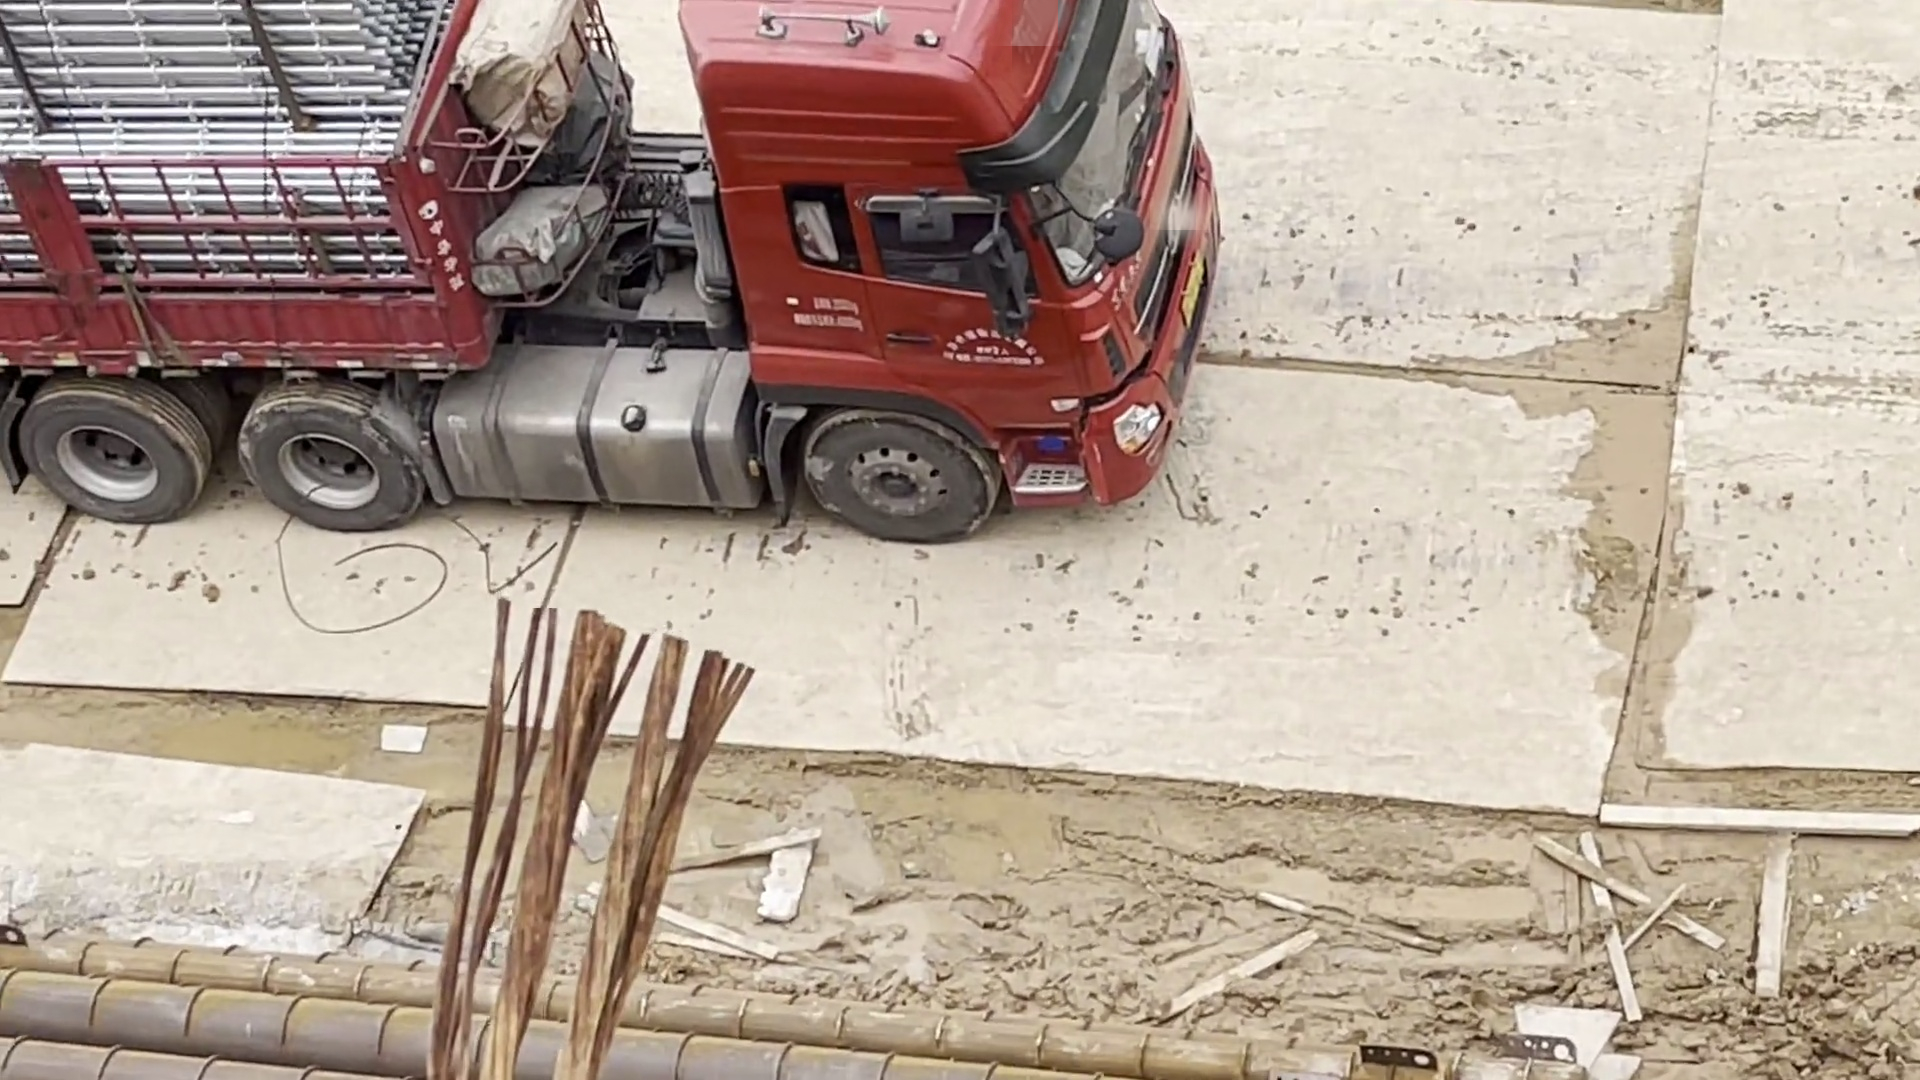scaffold: (1, 4, 431, 268)
